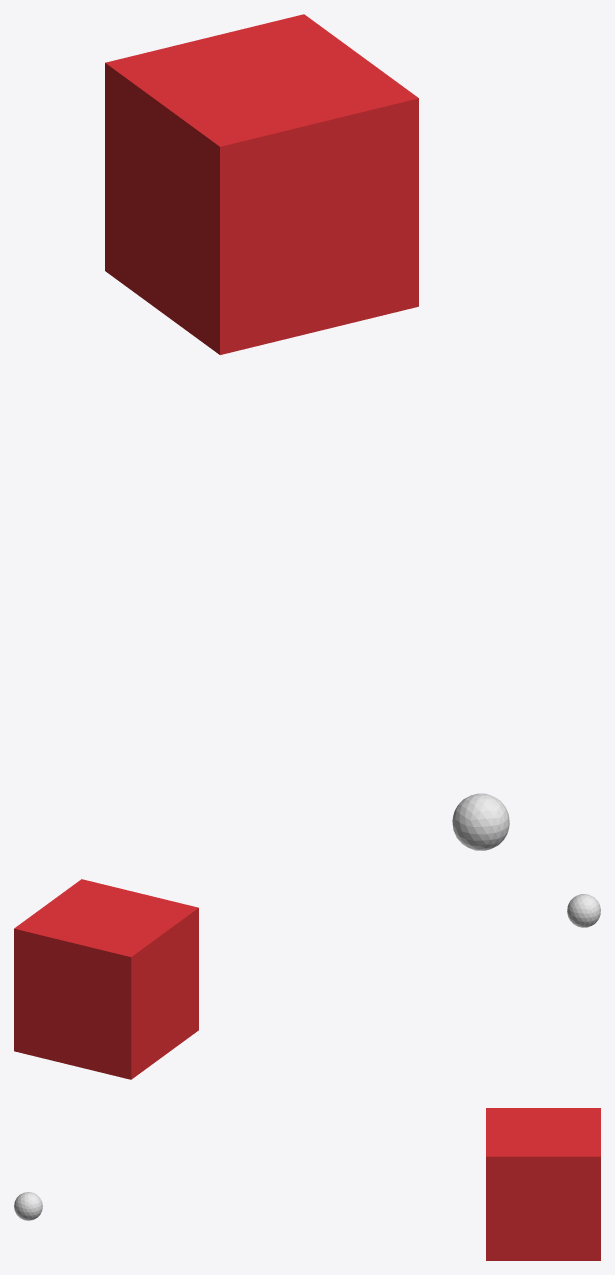
Rendered from red_bloom.glb.
3 renders of one model, top to bottom at view 1: azimuth 30°, elevation 25°; view 2: azimuth 150°, elevation 25°; view 3: azimuth 270°, elevation 25°, orthographic. The views are drawn at different scales.
Parts seen in each view (by area): view 1: Cube, Icosphere; view 2: Cube, Icosphere; view 3: Cube, Icosphere.
Part boxes in pixels (x1=…): Cube: x1=105, y1=14, x2=418, y2=354; Icosphere: x1=452, y1=793, x2=509, y2=850; Cube: x1=14, y1=879, x2=198, y2=1079; Icosphere: x1=567, y1=894, x2=600, y2=927; Cube: x1=486, y1=1108, x2=600, y2=1260; Icosphere: x1=14, y1=1192, x2=42, y2=1220.
Size of the model in its own units: 4.23 by 3.06 by 10.21.
